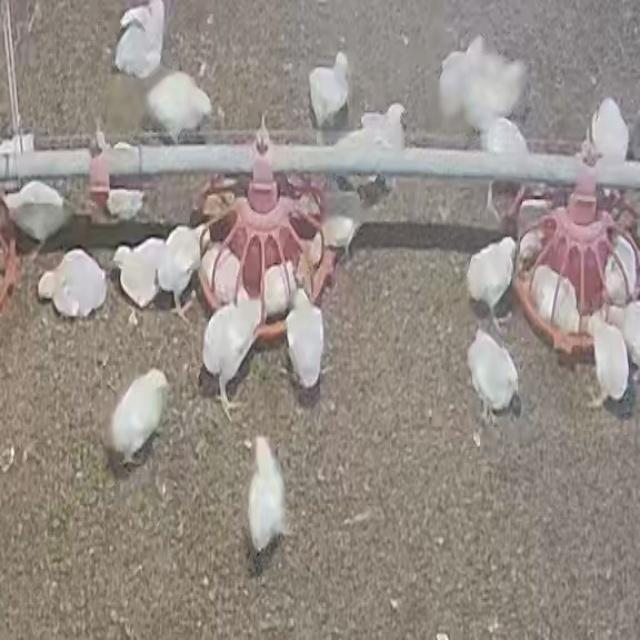chicken: (197, 300, 262, 409), (108, 365, 168, 463), (245, 430, 288, 553), (39, 242, 101, 318), (305, 189, 365, 266), (282, 288, 326, 393), (425, 41, 481, 123), (467, 332, 518, 420), (463, 55, 523, 126), (590, 95, 629, 199), (465, 235, 513, 317), (486, 116, 531, 201), (4, 179, 66, 240), (587, 311, 628, 402), (114, 2, 168, 71), (150, 74, 208, 137), (113, 235, 162, 309), (524, 271, 582, 332), (155, 228, 198, 308), (333, 131, 389, 185), (202, 238, 249, 302), (311, 56, 350, 127), (604, 228, 640, 301), (365, 102, 412, 156), (260, 266, 295, 320), (611, 306, 640, 371)
